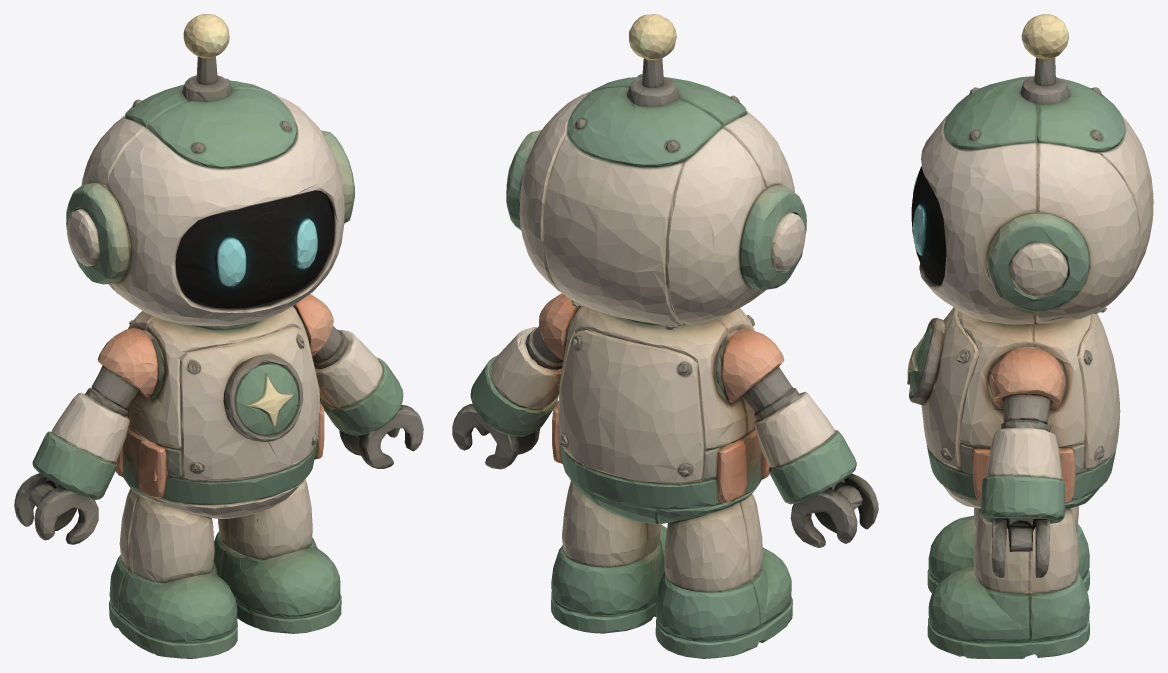
Rendered from 08-service-robot.glb.
The picture shows the model from 3 angles, left to right: view 1: azimuth 30°, elevation 25°; view 2: azimuth 150°, elevation 25°; view 3: azimuth 270°, elevation 25°; orthographic projection. The views are drawn at different scales.
Size of the model in its own units: 0.6895 by 0.9994 by 0.3744.
Materials: 1 (1 with a texture image).
